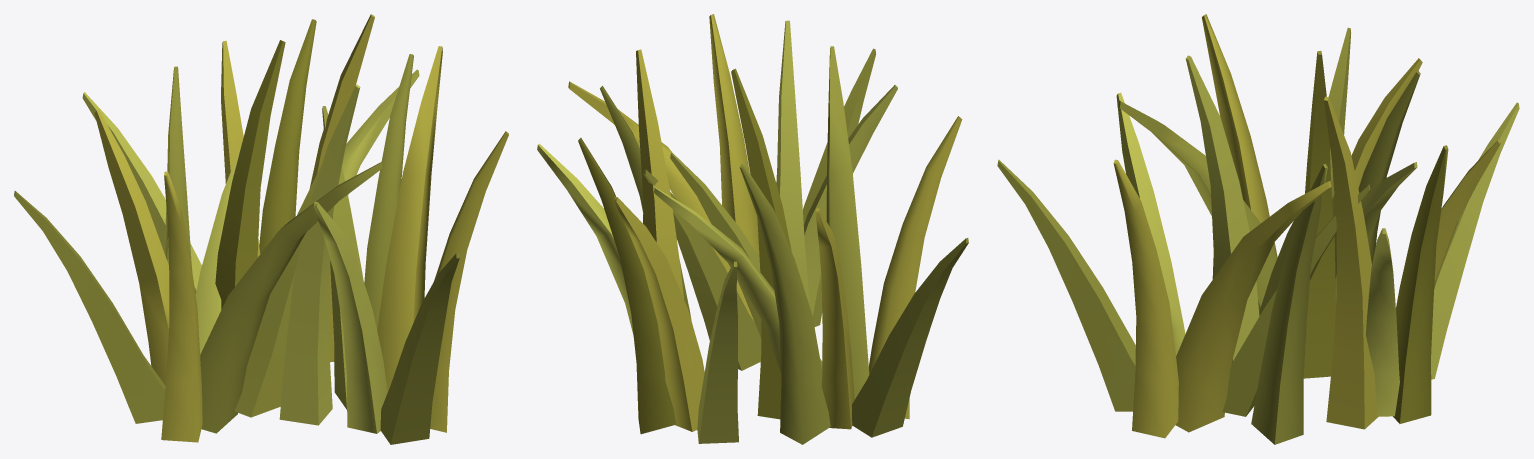
File: Grass_Yellow_4.fbx
3 views of the same model, side by side, from view 1: azimuth 30°, elevation 25°; view 2: azimuth 150°, elevation 25°; view 3: azimuth 270°, elevation 25° (orthographic). The views are drawn at different scales.
Parts seen in each view (by area): view 1: Cube.233, Cube.243, Cube.231, Cube.242, Cube.234, Cube.232, Cube.244, Cube.245, Cube.247, Cube.236, Cube.237, Cube.249 (+8 smaller); view 2: Cube.248, Cube.244, Cube.238, Cube.243, Cube.237, Cube.242, Cube.247, Cube.241, Cube.230, Cube.245, Cube.233, Cube.240 (+8 smaller); view 3: Cube.231, Cube.240, Cube.249, Cube.230, Cube.237, Cube.232, Cube.245, Cube.233, Cube.239, Cube.241, Cube.242, Cube.234 (+8 smaller).
Boxes of the visible parts, <box> form: Cube.233: <box>279,84,360,425</box>; Cube.243: <box>200,162,382,433</box>; Cube.231: <box>377,46,442,391</box>; Cube.242: <box>161,171,202,442</box>; Cube.234: <box>313,201,387,433</box>; Cube.232: <box>380,252,459,444</box>; Cube.244: <box>14,191,165,423</box>; Cube.245: <box>215,40,285,309</box>; Cube.247: <box>94,109,169,385</box>; Cube.236: <box>234,164,322,417</box>; Cube.237: <box>259,19,316,253</box>; Cube.249: <box>364,54,413,330</box>; Cube.248: <box>739,164,830,444</box>; Cube.244: <box>852,238,968,437</box>; Cube.238: <box>613,196,704,431</box>; Cube.243: <box>826,46,869,399</box>; Cube.237: <box>578,138,676,434</box>; Cube.242: <box>869,116,962,419</box>; Cube.247: <box>815,208,854,429</box>; Cube.241: <box>697,261,738,443</box>; Cube.230: <box>709,14,759,257</box>; Cube.245: <box>731,68,791,419</box>; Cube.233: <box>776,20,809,306</box>; Cube.240: <box>636,49,683,298</box>; Cube.231: <box>1175,180,1331,432</box>; Cube.240: <box>1324,96,1378,429</box>; Cube.249: <box>1251,163,1327,444</box>; Cube.230: <box>1113,159,1178,438</box>; Cube.237: <box>1393,145,1448,423</box>; Cube.232: <box>997,159,1135,411</box>; Cube.245: <box>1303,51,1335,378</box>; Cube.233: <box>1185,55,1259,361</box>; Cube.239: <box>1366,228,1399,416</box>; Cube.241: <box>1431,102,1519,379</box>; Cube.242: <box>1201,14,1277,258</box>; Cube.234: <box>1116,92,1185,356</box>.
Bounding box in the file's own units: 159 × 123 × 169.
